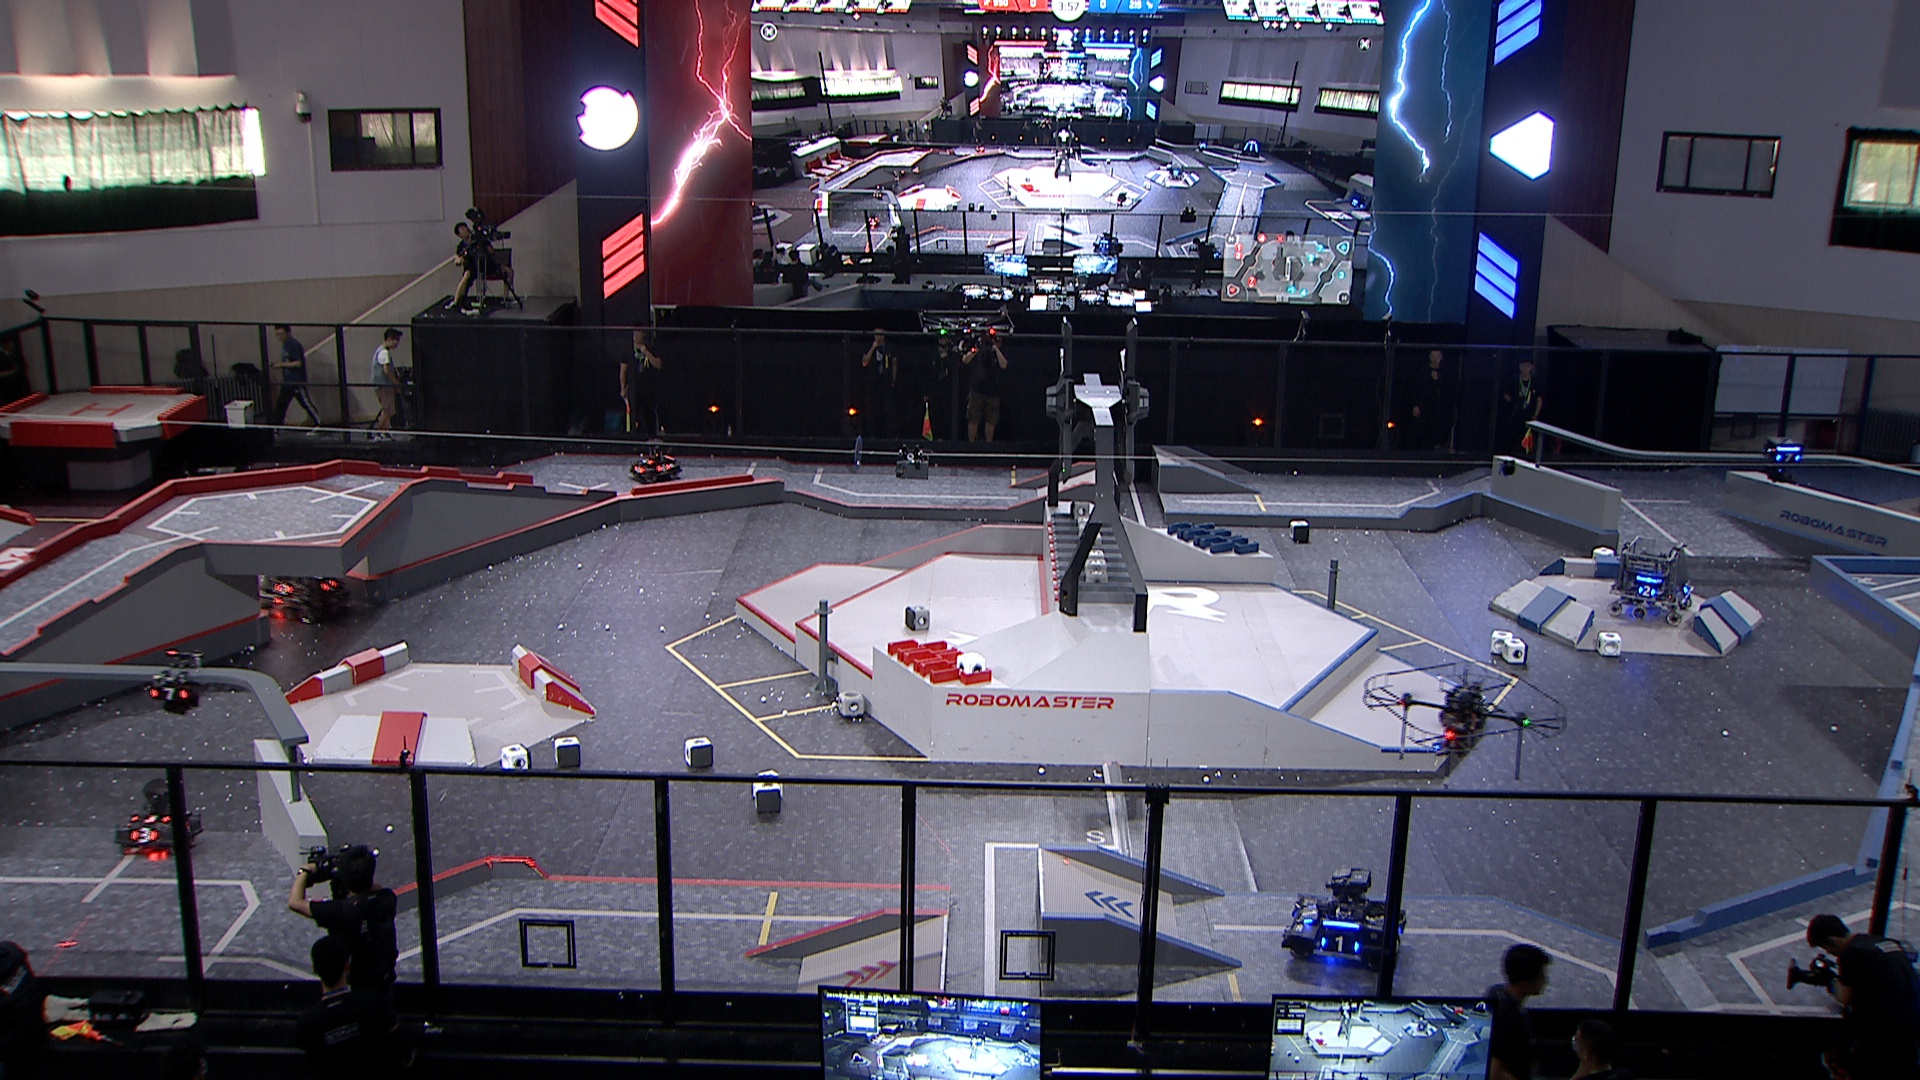armor: (1317, 935, 1364, 955), (148, 684, 191, 703), (129, 827, 161, 847), (131, 812, 173, 827), (1302, 902, 1317, 927), (1774, 451, 1803, 463), (1638, 585, 1659, 600), (319, 579, 338, 593), (273, 583, 295, 595), (655, 463, 673, 473), (638, 456, 655, 467), (633, 465, 646, 475)
car: (1284, 869, 1410, 975), (258, 527, 351, 626), (1607, 533, 1695, 626), (115, 778, 208, 858), (626, 438, 683, 485)
ignore: (1095, 232, 1124, 258), (1240, 138, 1261, 157), (1207, 243, 1225, 261), (1168, 164, 1185, 179), (872, 183, 887, 200), (1352, 196, 1370, 211), (866, 214, 882, 229), (752, 200, 764, 219), (1196, 142, 1207, 153)
watcher: (146, 646, 206, 717), (1762, 436, 1804, 483)
